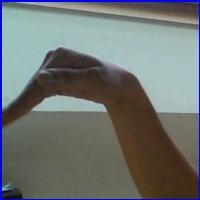A: (1, 39, 141, 161)
